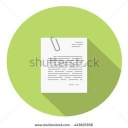Metal: (43, 30, 67, 51)
